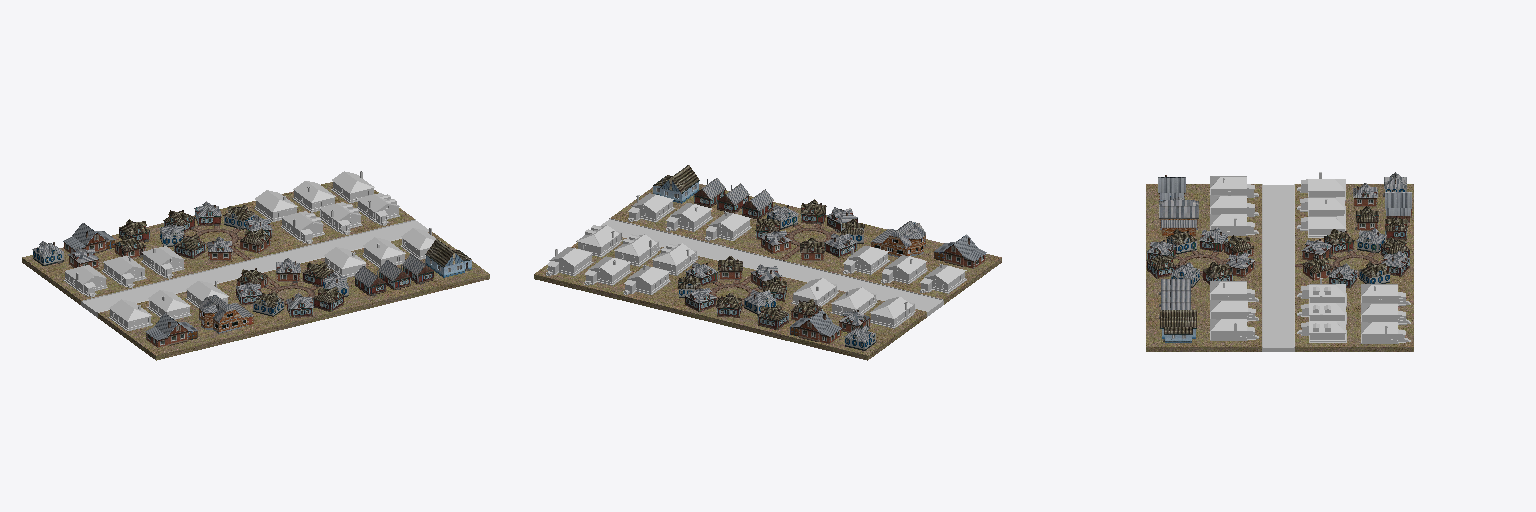
3 renders of one model, left to right at view 1: azimuth 30°, elevation 25°; view 2: azimuth 150°, elevation 25°; view 3: azimuth 270°, elevation 25°, orthographic.
Visible parts, largest first — view 1: Street, House2, House1, House3; view 2: Street, House2, House1, House3; view 3: Street, House2, House3, House1.
Boxes of the visible parts, <box> form: Street: <box>22,182,489,360</box>; House2: <box>63,171,440,330</box>; House1: <box>32,219,471,347</box>; House3: <box>159,201,348,317</box>; Street: <box>534,184,1001,360</box>; House2: <box>546,193,966,328</box>; House1: <box>653,165,986,350</box>; House3: <box>678,199,864,317</box>; Street: <box>1146,184,1413,351</box>; House2: <box>1210,172,1410,343</box>; House3: <box>1146,227,1409,287</box>; House1: <box>1158,172,1411,342</box>.
Size of the model in its own units: 124 by 10.5 by 86.48.
3 materials, 2 textured.